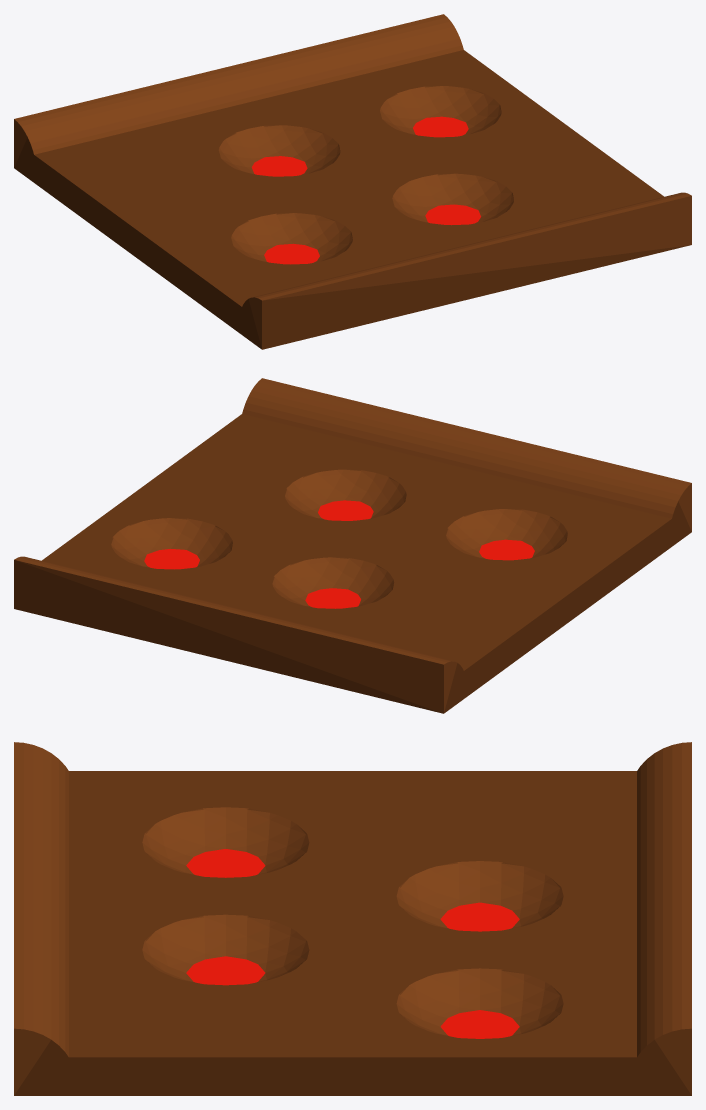
File: hazard_field.glb
3 views of the same model, one above another, from view 1: azimuth 30°, elevation 25°; view 2: azimuth 150°, elevation 25°; view 3: azimuth 270°, elevation 25° (orthographic). The views are drawn at different scales.
Visible parts, largest first — view 1: floor:pbr, berm1:pbr, trim:pbr, pit2:pbr, pit0:pbr, pit1:pbr, pit3:pbr, hazard_cap:pbr, berm0:pbr; view 2: floor:pbr, berm0:pbr, trim:pbr, pit1:pbr, pit2:pbr, pit0:pbr, pit3:pbr, hazard_cap:pbr, berm1:pbr; view 3: floor:pbr, berm0:pbr, berm1:pbr, pit2:pbr, pit1:pbr, pit3:pbr, pit0:pbr, hazard_cap:pbr, trim:pbr.
Part boxes in pixels (x1,y1,x2,y2): floor:pbr: [14, 50, 689, 349]; berm1:pbr: [14, 14, 463, 154]; trim:pbr: [14, 119, 691, 348]; pit2:pbr: [392, 173, 513, 223]; pit0:pbr: [231, 213, 352, 262]; pit1:pbr: [218, 125, 340, 174]; pit3:pbr: [380, 86, 501, 135]; hazard_cap:pbr: [251, 116, 480, 264]; berm0:pbr: [252, 192, 691, 300]; floor:pbr: [14, 414, 691, 713]; berm0:pbr: [242, 378, 691, 518]; trim:pbr: [15, 483, 691, 713]; pit1:pbr: [272, 557, 394, 606]; pit2:pbr: [285, 469, 406, 519]; pit0:pbr: [446, 509, 567, 558]; pit3:pbr: [111, 518, 232, 567]; hazard_cap:pbr: [144, 500, 534, 608]; berm1:pbr: [14, 556, 453, 664]; floor:pbr: [14, 771, 691, 1095]; berm0:pbr: [14, 742, 68, 1056]; berm1:pbr: [637, 742, 691, 1056]; pit2:pbr: [142, 914, 309, 982]; pit1:pbr: [396, 861, 563, 928]; pit3:pbr: [396, 968, 563, 1035]; pit0:pbr: [142, 807, 309, 874]; hazard_cap:pbr: [186, 849, 519, 1038]; trim:pbr: [14, 1028, 691, 1095].
Bounding box in the file's own units: 32 × 3.5 × 32.
